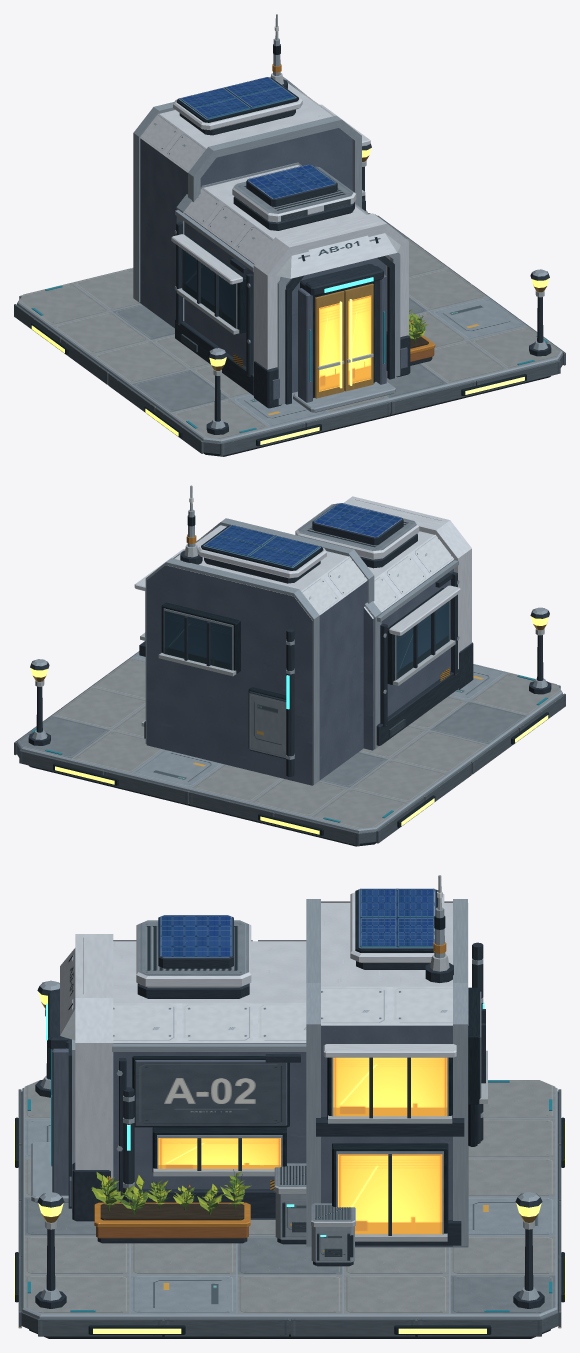
Rendered from N2_ViviendaModular.fbx.
3 renders of one model, top to bottom at view 1: azimuth 30°, elevation 25°; view 2: azimuth 150°, elevation 25°; view 3: azimuth 270°, elevation 25°, orthographic. The views are drawn at different scales.
Visible parts, largest first — view 1: N2_ViviendaModular; view 2: N2_ViviendaModular; view 3: N2_ViviendaModular.
Part boxes in pixels (x1=…): N2_ViviendaModular: x1=14, y1=14, x2=565, y2=456; N2_ViviendaModular: x1=14, y1=485, x2=565, y2=846; N2_ViviendaModular: x1=14, y1=875, x2=565, y2=1338.
Bounding box in the file's own units: 7.28 × 5.28 × 7.
